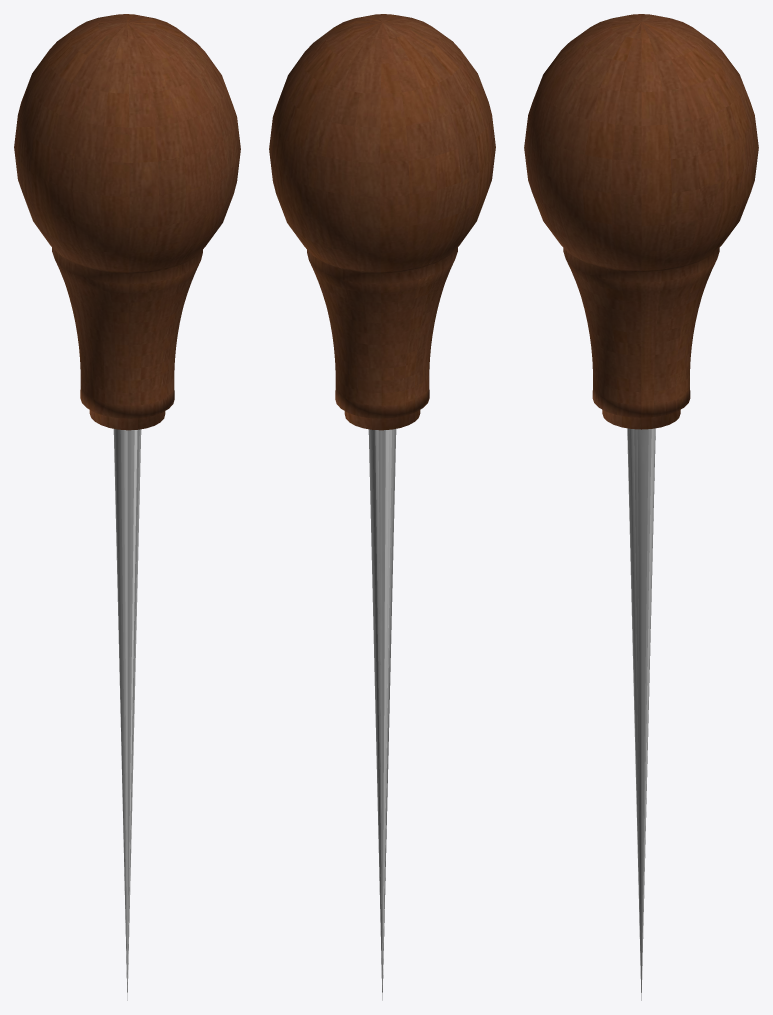
The picture shows the model from 3 angles, left to right: view 1: azimuth 30°, elevation 25°; view 2: azimuth 150°, elevation 25°; view 3: azimuth 270°, elevation 25°; orthographic projection.
Bounding box in the file's own units: 0.0381 × 0.1836 × 0.0399.
3 materials, 2 textured.
